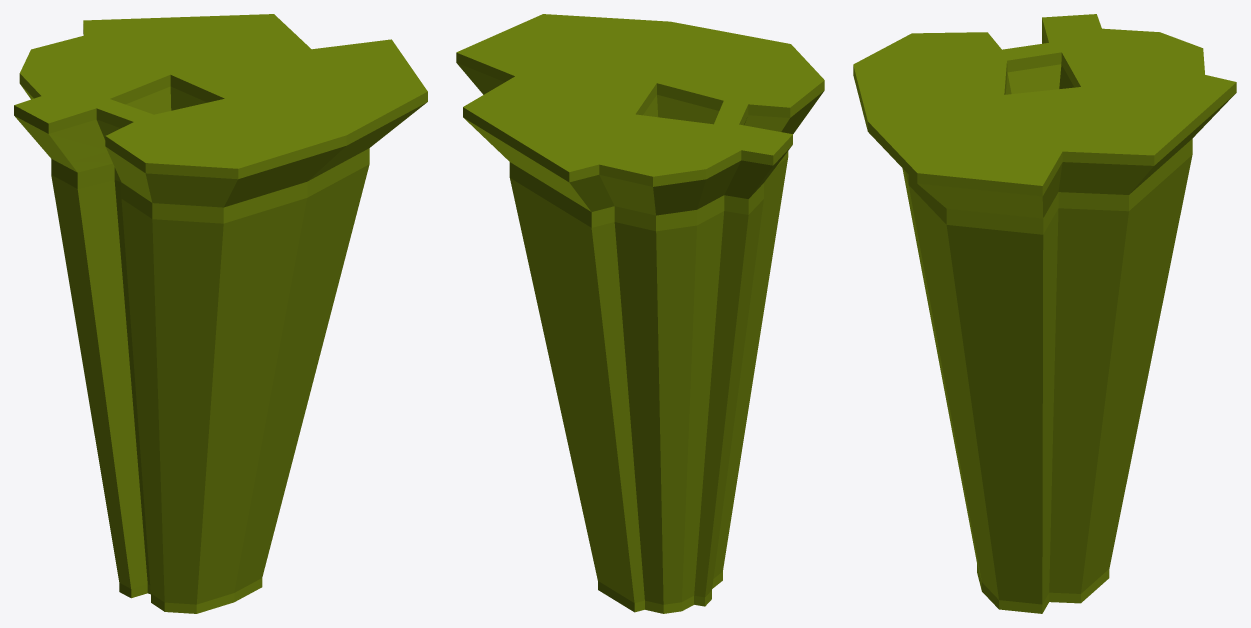
Rendered from Gyeongi.obj.
3 views of the same model, side by side, from view 1: azimuth 30°, elevation 25°; view 2: azimuth 150°, elevation 25°; view 3: azimuth 270°, elevation 25° (orthographic). The views are drawn at different scales.
Parts seen in each view (by area): view 1: Gyeongi; view 2: Gyeongi; view 3: Gyeongi.
Part boxes in pixels (bbox=[...]): Gyeongi: bbox=[14, 14, 427, 613]; Gyeongi: bbox=[456, 14, 824, 613]; Gyeongi: bbox=[853, 14, 1236, 613].
Bounding box in the file's own units: 38.31 × 51.71 × 36.1.
